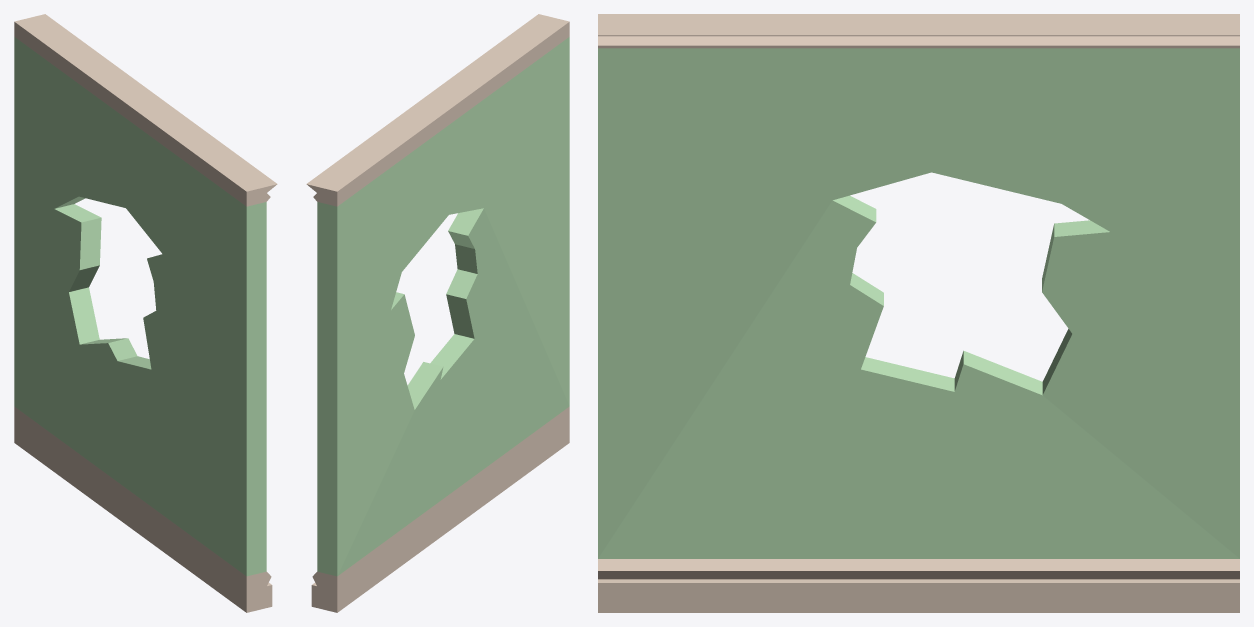
The model's file is Wall_LargeHole4.fbx.
3 views of the same model, side by side, from view 1: azimuth 30°, elevation 25°; view 2: azimuth 150°, elevation 25°; view 3: azimuth 270°, elevation 25° (orthographic). The views are drawn at different scales.
Parts seen in each view (by area): view 1: Cube; view 2: Cube; view 3: Cube.
Boxes of the visible parts, x1,y1,x2,y2 form: Cube: (14, 14, 277, 612); Cube: (306, 14, 569, 612); Cube: (598, 14, 1239, 612).
Bounding box in the file's own units: 75.24 × 800 × 800.
